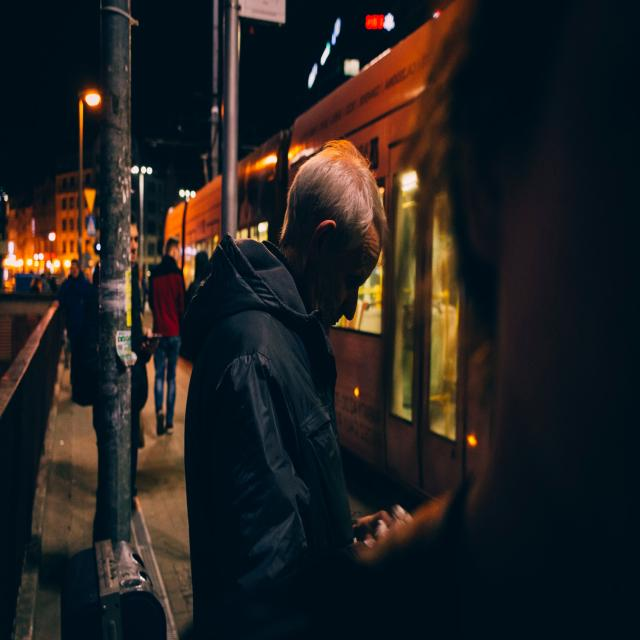adult: (186, 138, 392, 640), (146, 238, 189, 436)
